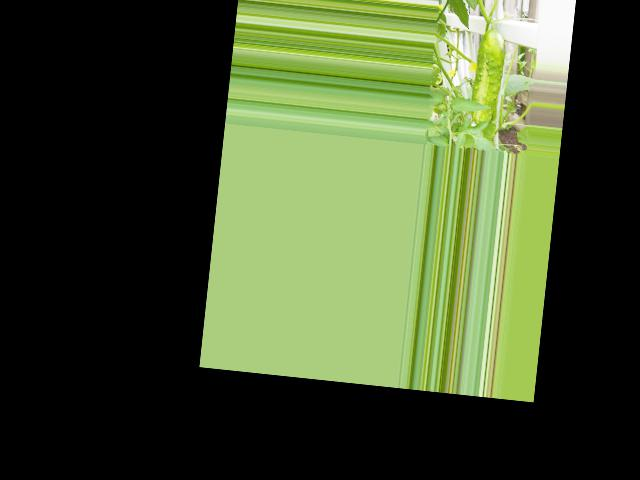cucumber: (470, 27, 507, 125)
